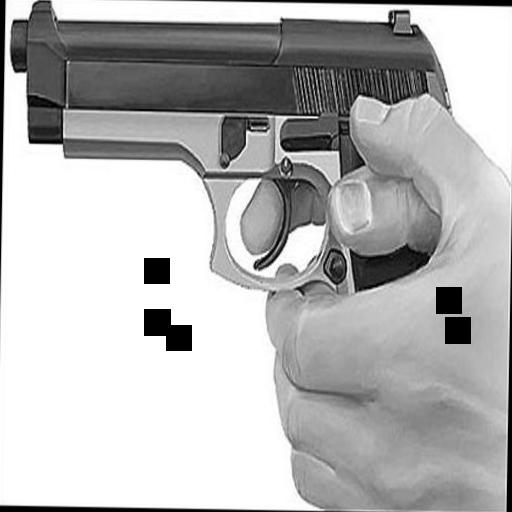Handgun: (1, 0, 447, 305)
